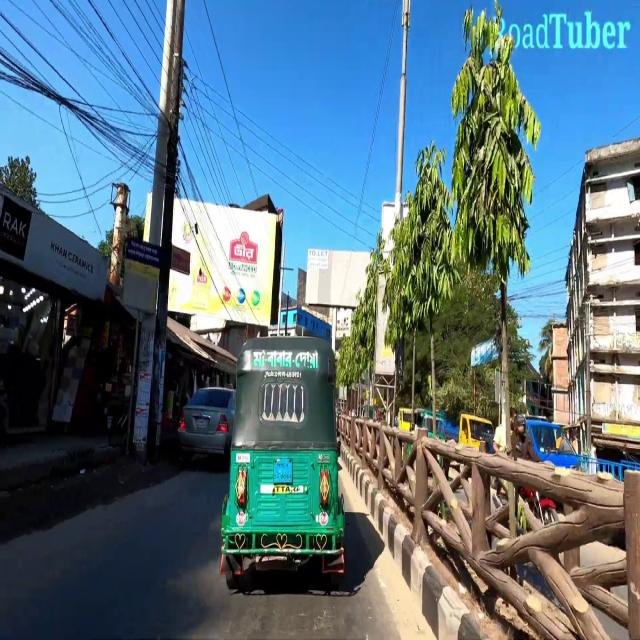silver: (177, 380, 232, 467)
